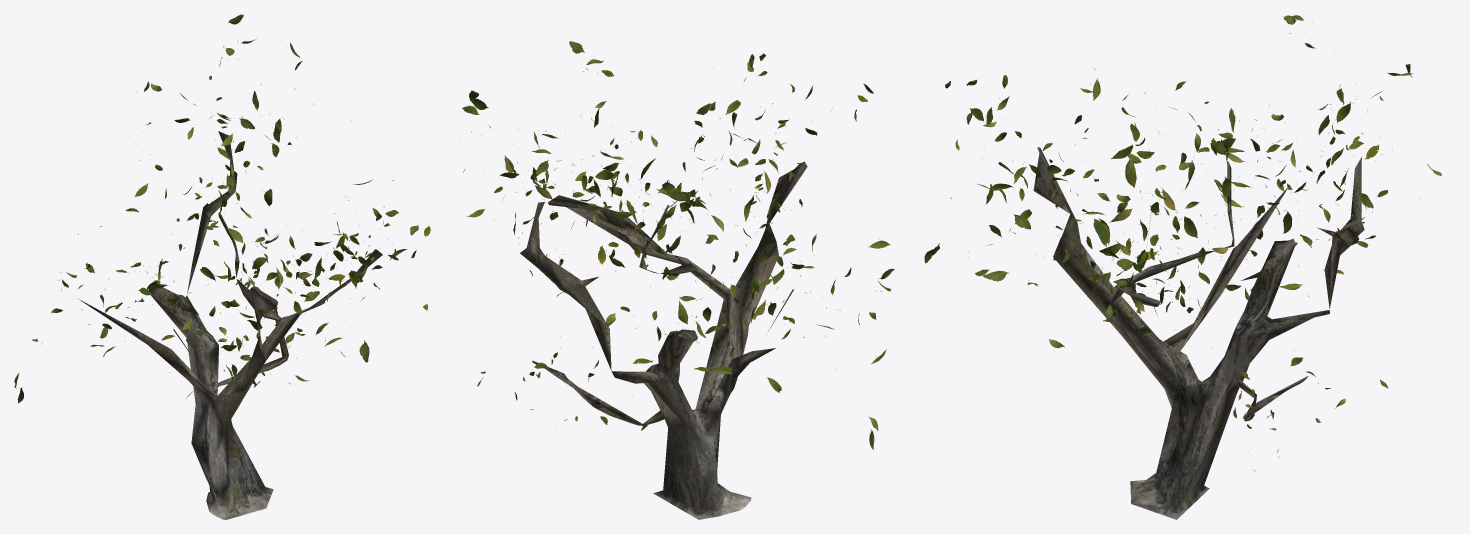
Rendered from island_tree_01.glb.
3 views of the same model, side by side, from view 1: azimuth 30°, elevation 25°; view 2: azimuth 150°, elevation 25°; view 3: azimuth 270°, elevation 25° (orthographic). The views are drawn at different scales.
Parts seen in each view (by area): view 1: island_tree_01_LOD0; view 2: island_tree_01_LOD0; view 3: island_tree_01_LOD0.
Boxes of the visible parts, bbox=[...] form: island_tree_01_LOD0: bbox=[14, 14, 430, 519]; island_tree_01_LOD0: bbox=[462, 41, 894, 519]; island_tree_01_LOD0: bbox=[924, 15, 1454, 519].
Size of the model in its own units: 4.47 by 4.92 by 4.57.
Materials: 3 (3 with a texture image).
